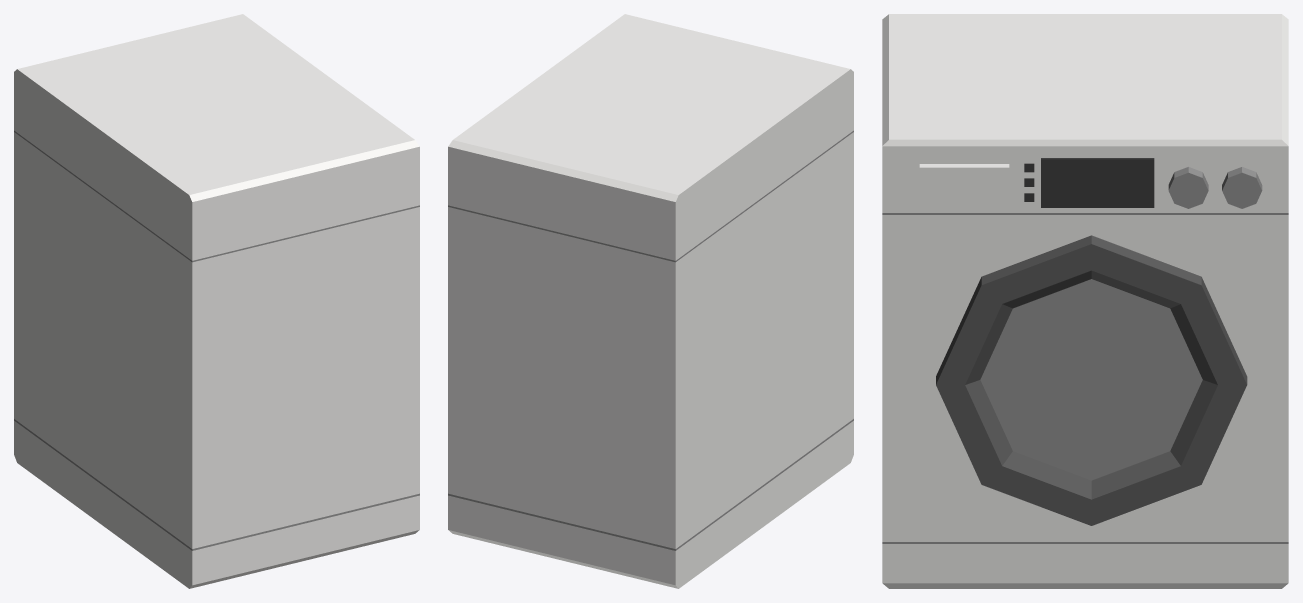
The model's file is Washer.fbx.
3 views of the same model, side by side, from view 1: azimuth 30°, elevation 25°; view 2: azimuth 150°, elevation 25°; view 3: azimuth 270°, elevation 25° (orthographic). The views are drawn at different scales.
Visible parts, largest first — view 1: Washer; view 2: Washer; view 3: Washer.
Part boxes in pixels (x1,y1,x2,y2): Washer: (14,14,419,588); Washer: (448,14,853,588); Washer: (882,14,1288,588).
Size of the model in its own units: 91.28 by 116 by 141.
